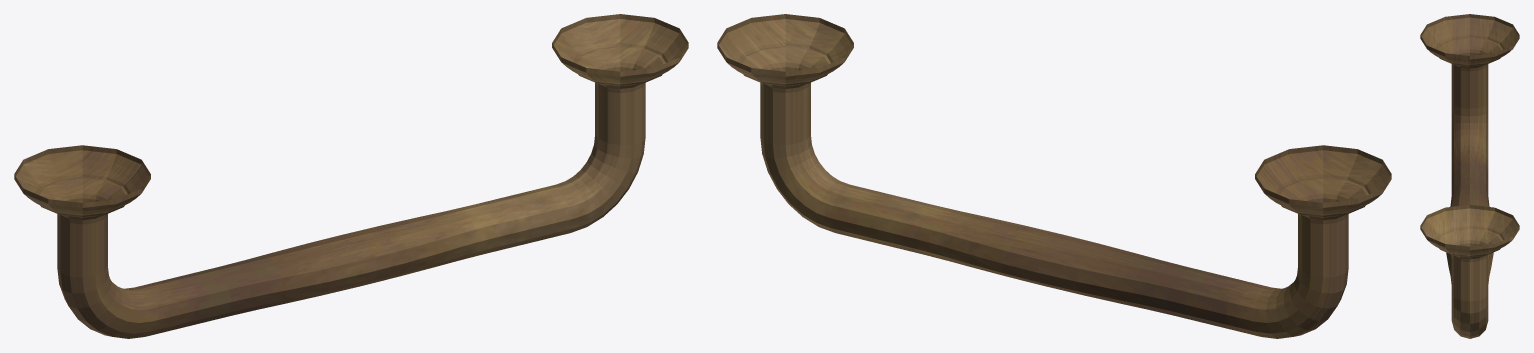
3 renders of one model, left to right at view 1: azimuth 30°, elevation 25°; view 2: azimuth 150°, elevation 25°; view 3: azimuth 270°, elevation 25°, orthographic. The views are drawn at different scales.
Visible parts, largest first — view 1: Black.002_1; view 2: Black.002_1; view 3: Black.002_1.
Boxes of the visible parts, <box> form: Black.002_1: <box>14,14,688,338</box>; Black.002_1: <box>717,14,1391,338</box>; Black.002_1: <box>1420,14,1519,338</box>.
Bounding box in the file's own units: 0.2247 × 0.0572 × 0.0405.
1 material, 1 textured.
